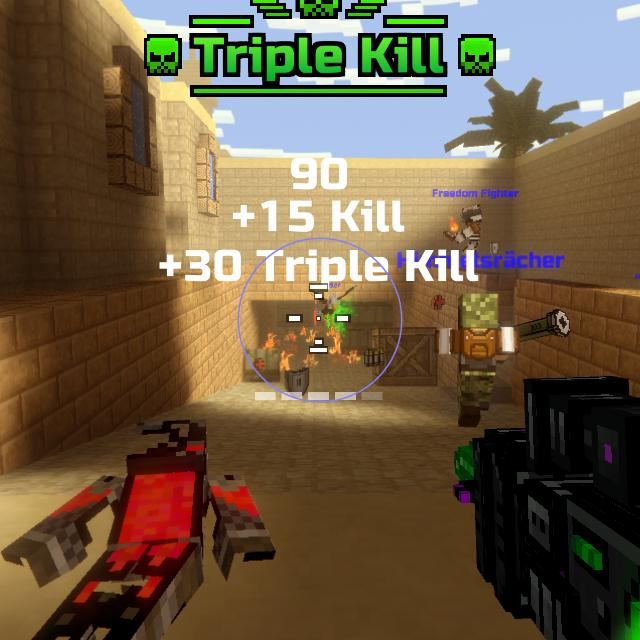Enemy: (314, 300, 327, 325)
